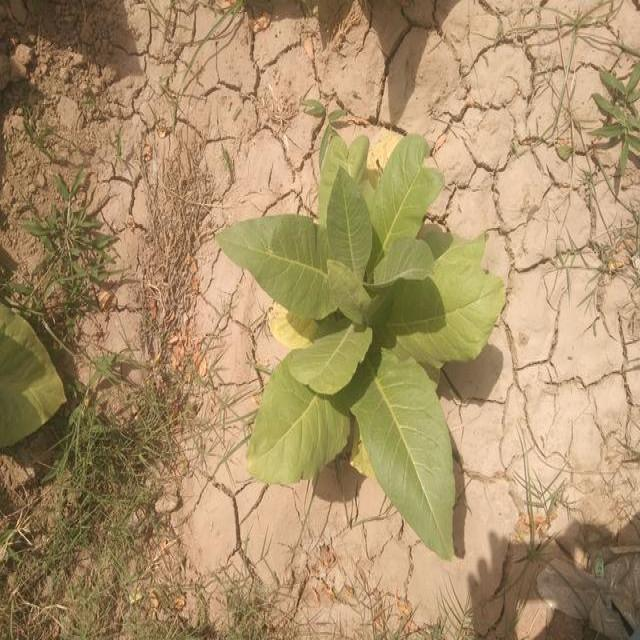crop: (226, 127, 503, 548), (0, 296, 65, 439)
